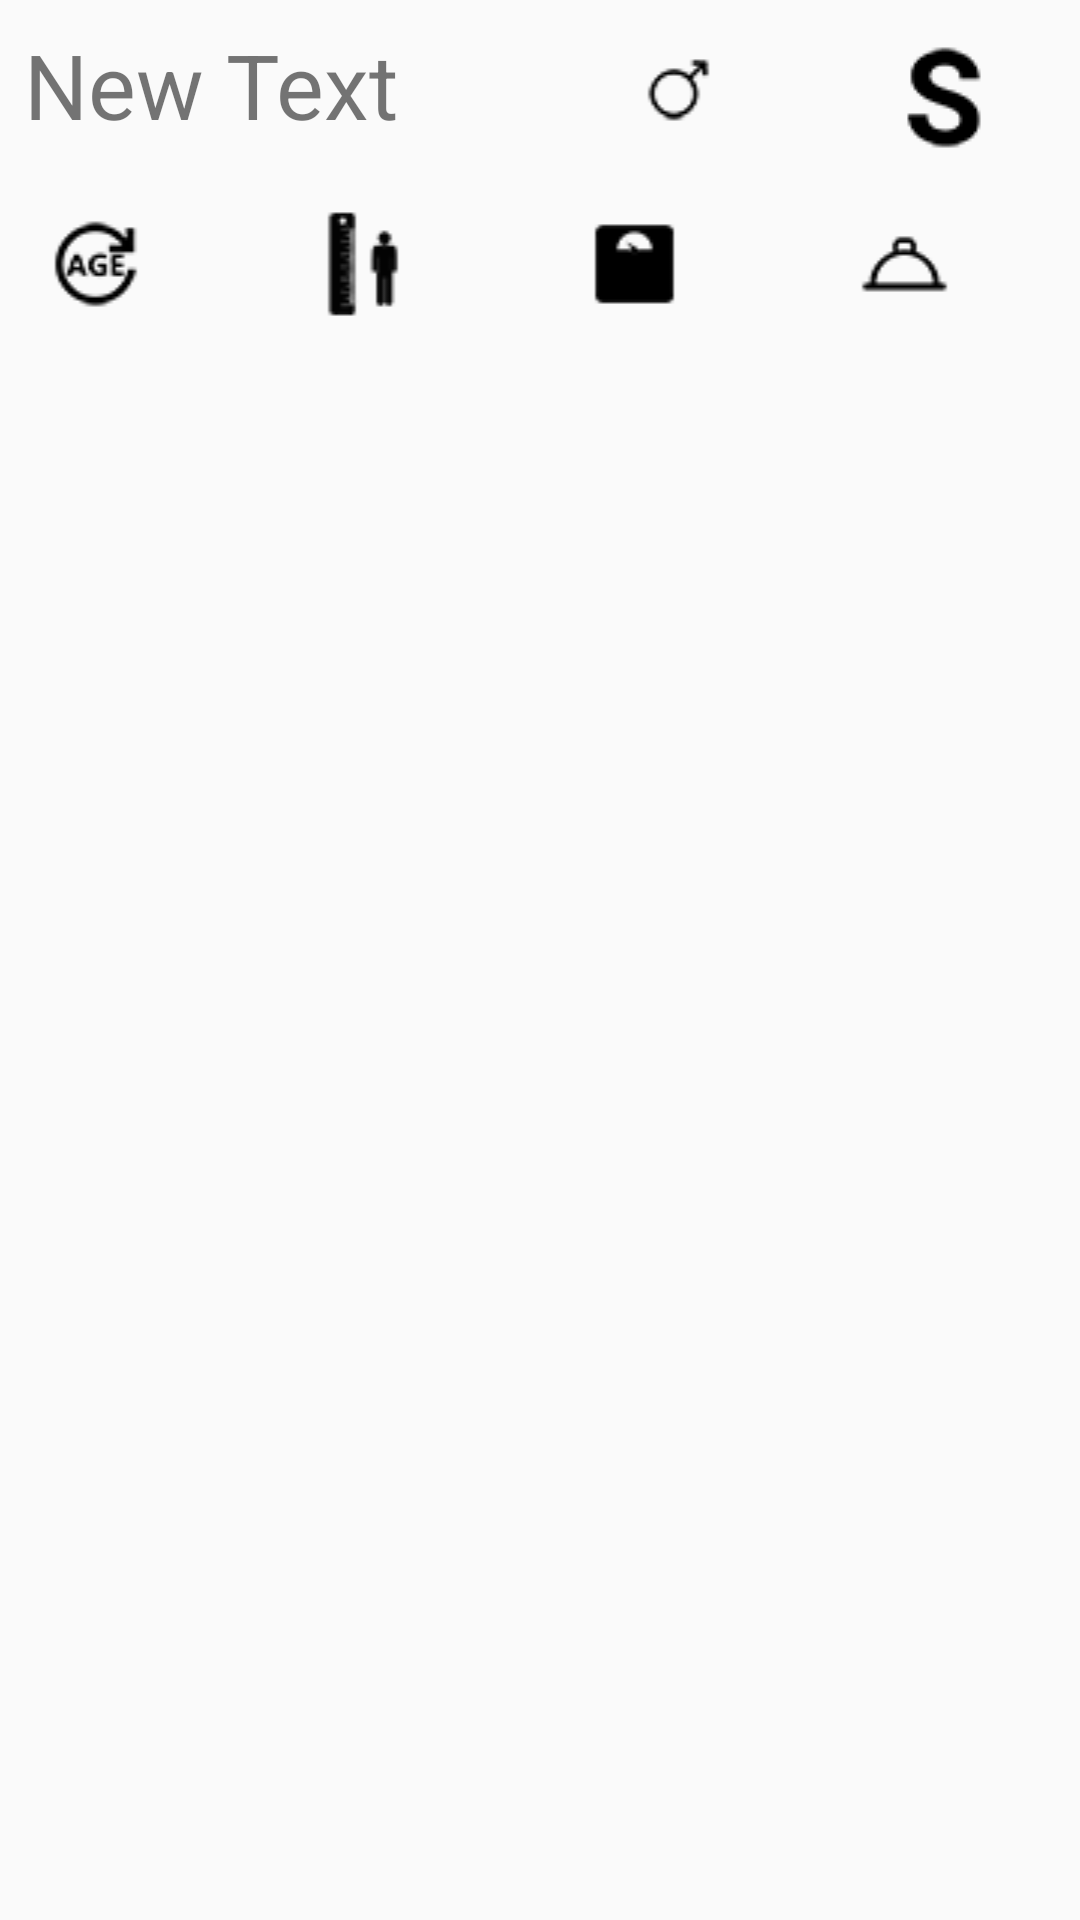

Where icons sit on this 1080px x 1920px app screen, as (x1, y1, x2, y2):
Gender: (647, 59, 710, 121)
Height: (327, 212, 399, 316)
Meals: (861, 236, 948, 292)
Weight: (594, 224, 675, 304)
